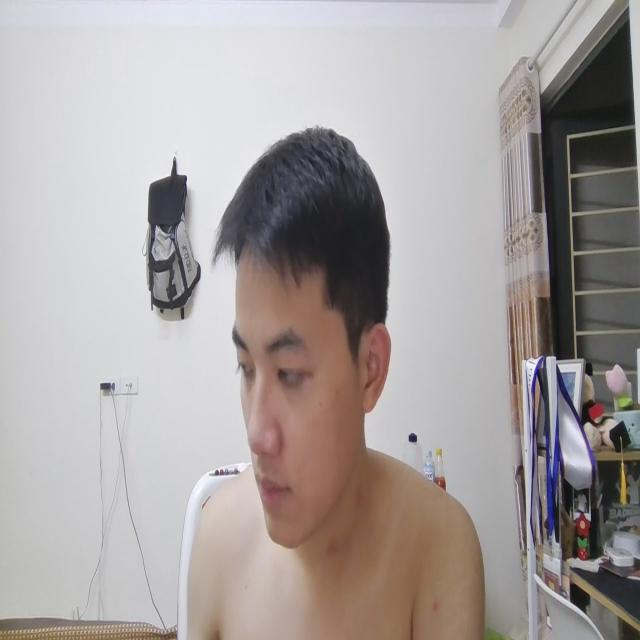student: (196, 121, 485, 640)
